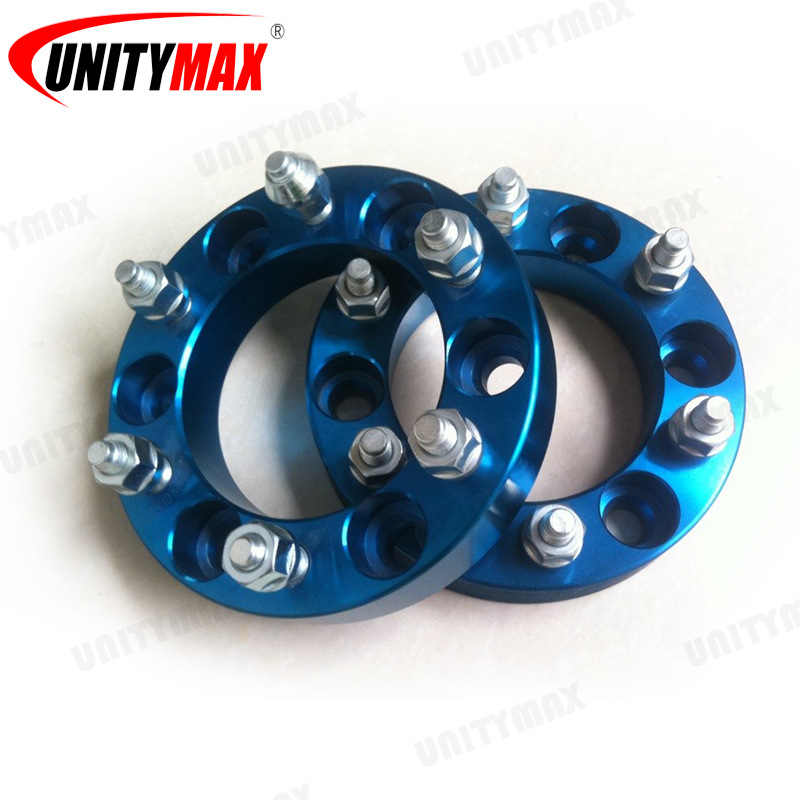bolt_b: (215, 515, 297, 595), (403, 403, 486, 480), (82, 424, 159, 498), (409, 204, 484, 276), (108, 251, 184, 322), (519, 500, 590, 571), (669, 388, 738, 459), (338, 420, 407, 490), (329, 256, 399, 323), (633, 223, 700, 290), (471, 166, 532, 224)
